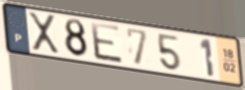1: (199, 38, 217, 79)
5: (155, 33, 184, 72)
7: (125, 27, 149, 68)
8: (63, 17, 90, 60)
E: (89, 20, 126, 66)
X: (26, 10, 62, 56)
